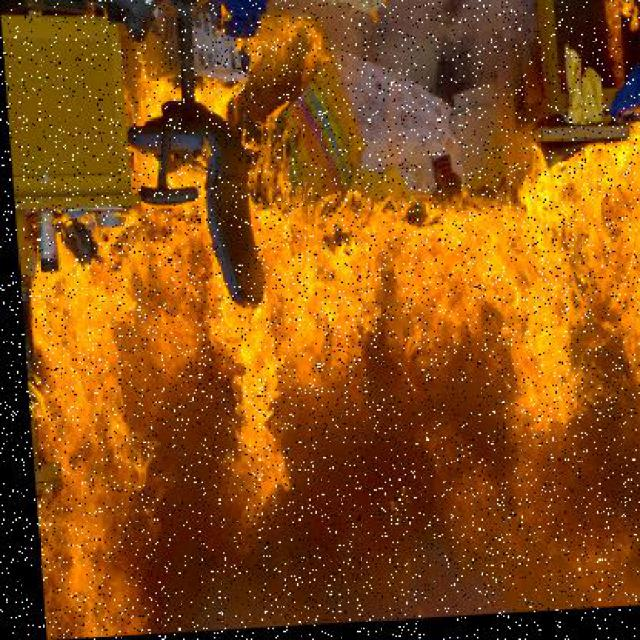fire: (12, 165, 640, 640)
